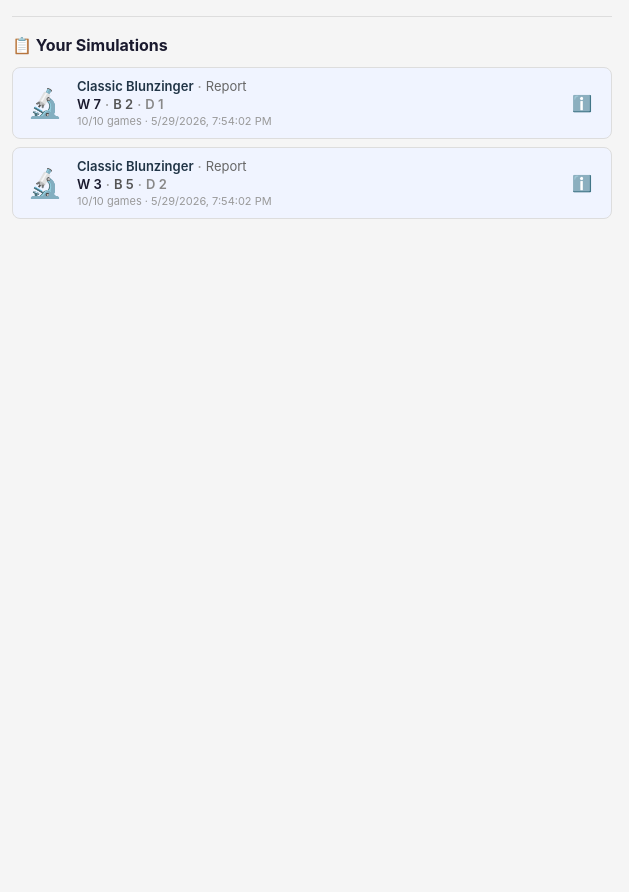
Test: SimulationsOverviewSection › details toggle › can expand multiple simulations independently
Click the 1st button titled "Show details" at (582, 103), box [565,90,599,116]
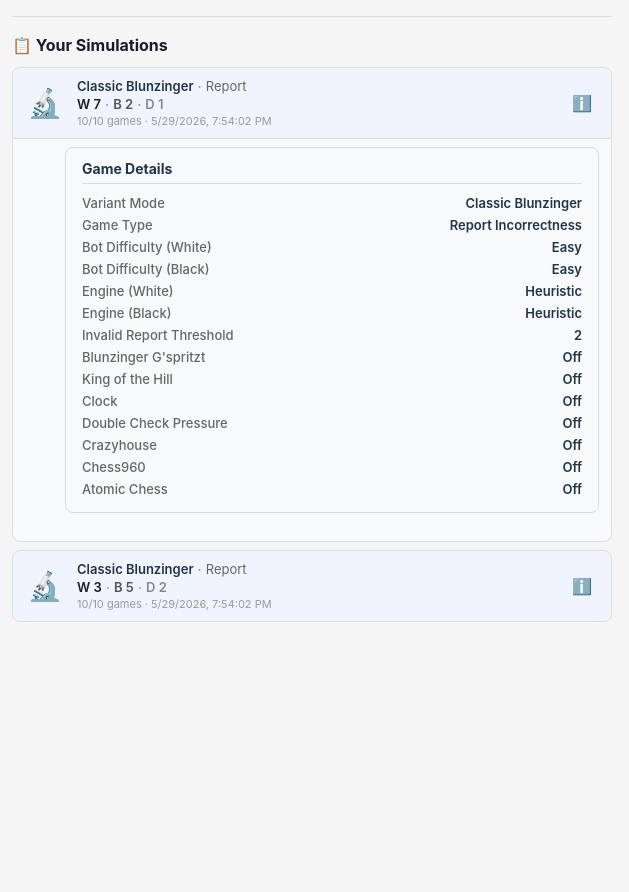
Now the number of headings "Game Details" is 1, box [82,160,582,184]
Click the 2nd button titled "Show details" at (582, 586), box [565,573,599,599]
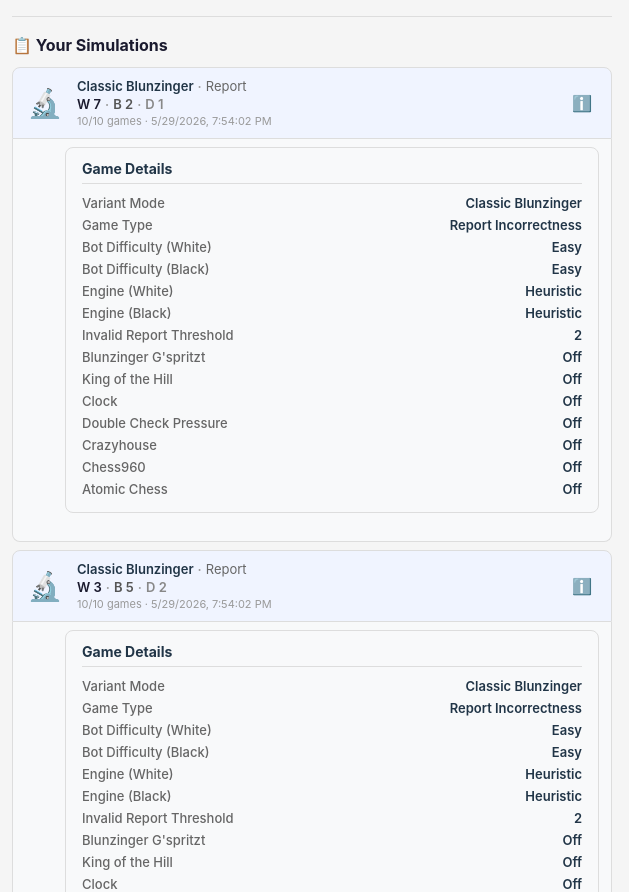
Now the number of headings "Game Details" is 2, box [82,160,582,184]; [82,643,582,667]
